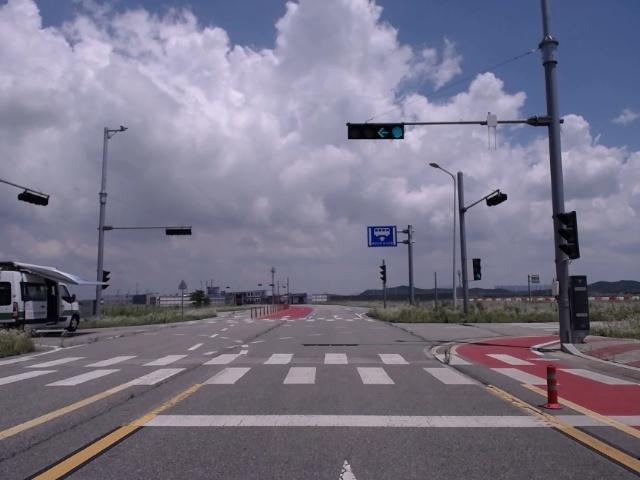all_green_4: (353, 119, 411, 141)
